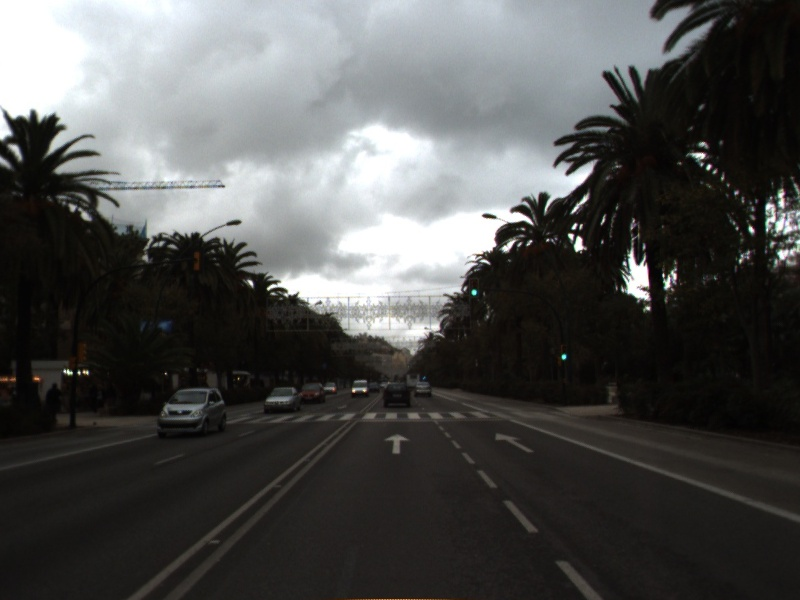STRAIGHT: (493, 430, 537, 455), (382, 431, 413, 456)
